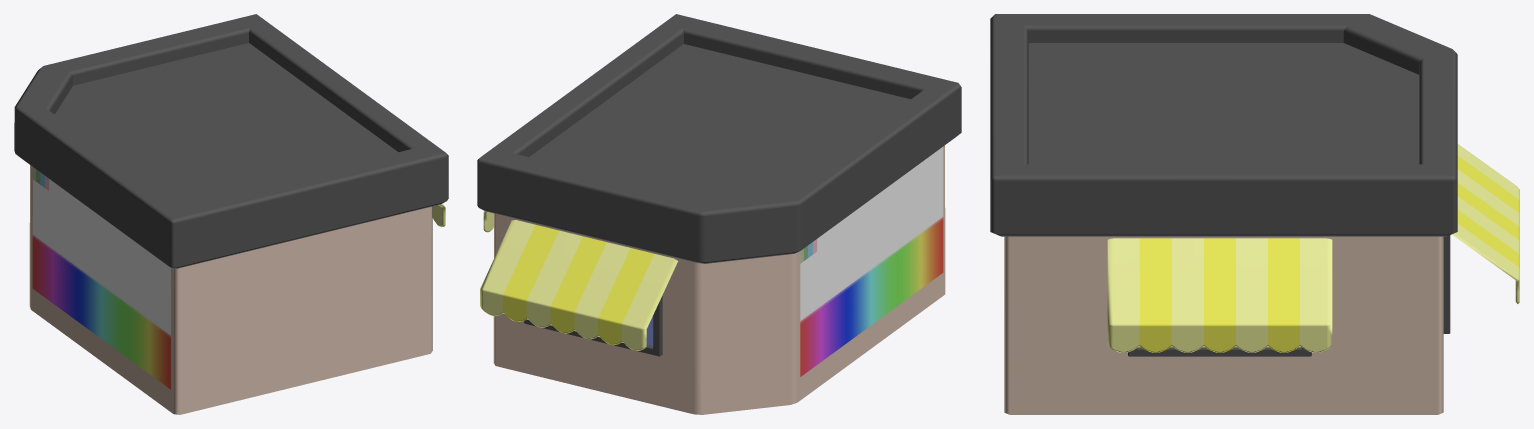
The model's file is CafeExternal.fbx.
3 renders of one model, left to right at view 1: azimuth 30°, elevation 25°; view 2: azimuth 150°, elevation 25°; view 3: azimuth 270°, elevation 25°, orthographic. The views are drawn at different scales.
Parts seen in each view (by area): view 1: Cafe, Decal; view 2: Cafe, Decal, Plane.051, Cube.307; view 3: Cafe, Plane.054, Plane.051, Cube.309, Cube.307.
Boxes of the visible parts, x1,y1,x2,y2 form: Cafe: [14, 14, 448, 414]; Decal: [32, 167, 170, 389]; Cafe: [477, 14, 961, 414]; Decal: [800, 147, 943, 376]; Plane.051: [480, 220, 677, 350]; Cube.307: [524, 295, 662, 356]; Cafe: [990, 14, 1457, 414]; Plane.054: [1107, 238, 1332, 352]; Plane.051: [1452, 144, 1519, 303]; Cube.309: [1128, 347, 1311, 356]; Cube.307: [1443, 235, 1450, 333].
Bounding box in the file's own units: 899 × 535 × 1051.
